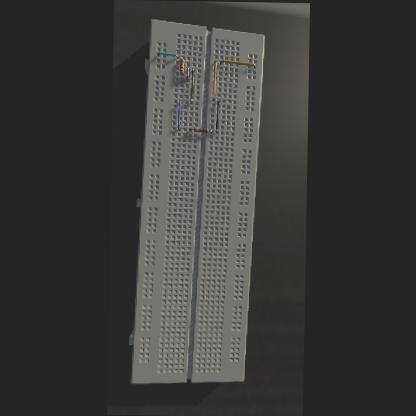breadboard: (128, 18, 264, 384)
resistor: (193, 126, 208, 132), (179, 57, 184, 74)
wire: (220, 58, 255, 67), (212, 59, 216, 99), (190, 67, 194, 102), (158, 52, 178, 58), (178, 100, 182, 130), (216, 98, 219, 132), (186, 66, 188, 80), (181, 74, 182, 80), (190, 128, 193, 130), (209, 130, 212, 132), (182, 56, 183, 57)
